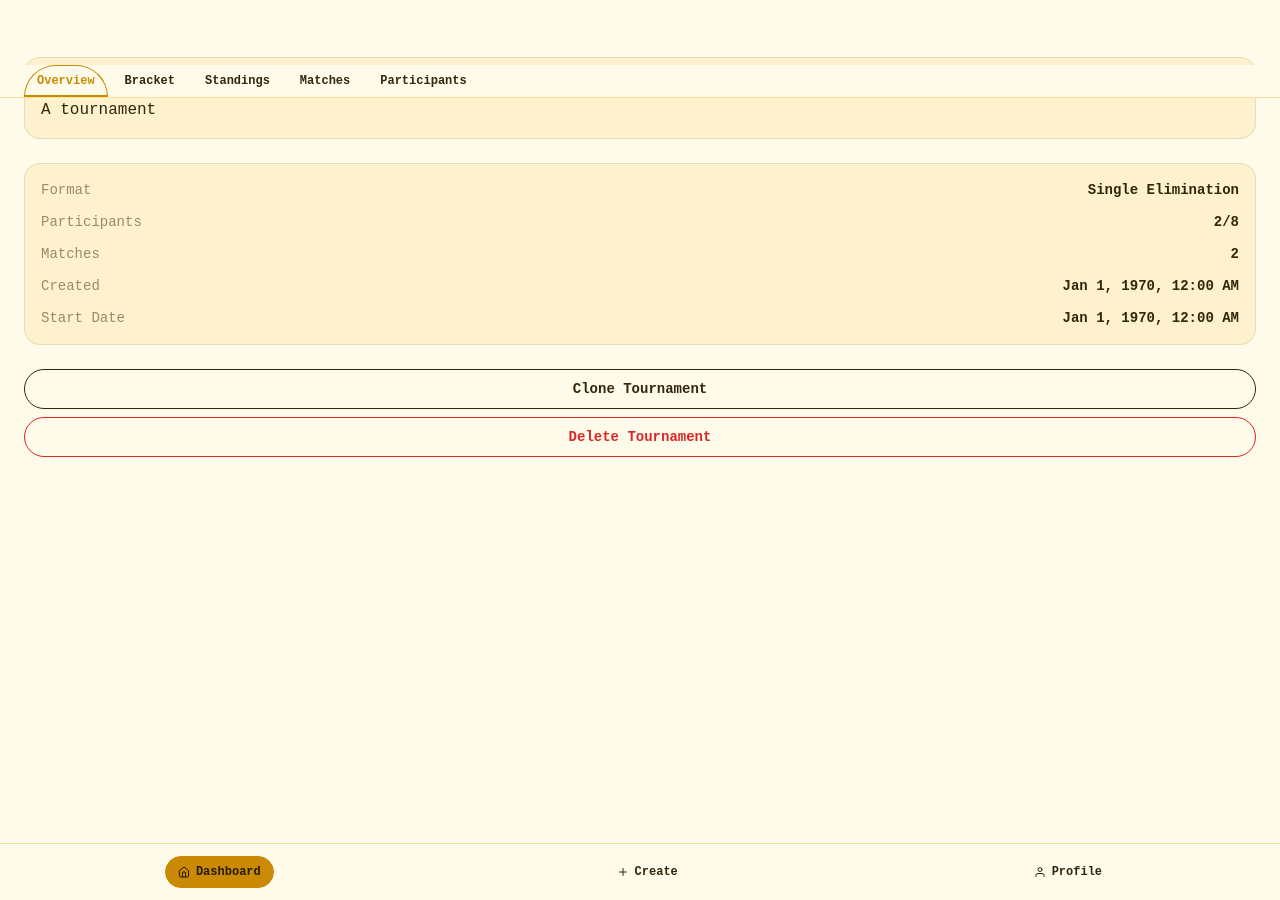
Scenario: TournamentDetailPage › renders every tab and switches between them
This screenshot has width=1280, height=900.
Check: the text "A tournament" is shown, box x1=41 y1=101 x2=156 y2=119
Check: the button "Overview" is shown, box x1=24 y1=65 x2=108 y2=97
Click the button "Bracket".
click(150, 81)  # box x1=112 y1=65 x2=188 y2=97
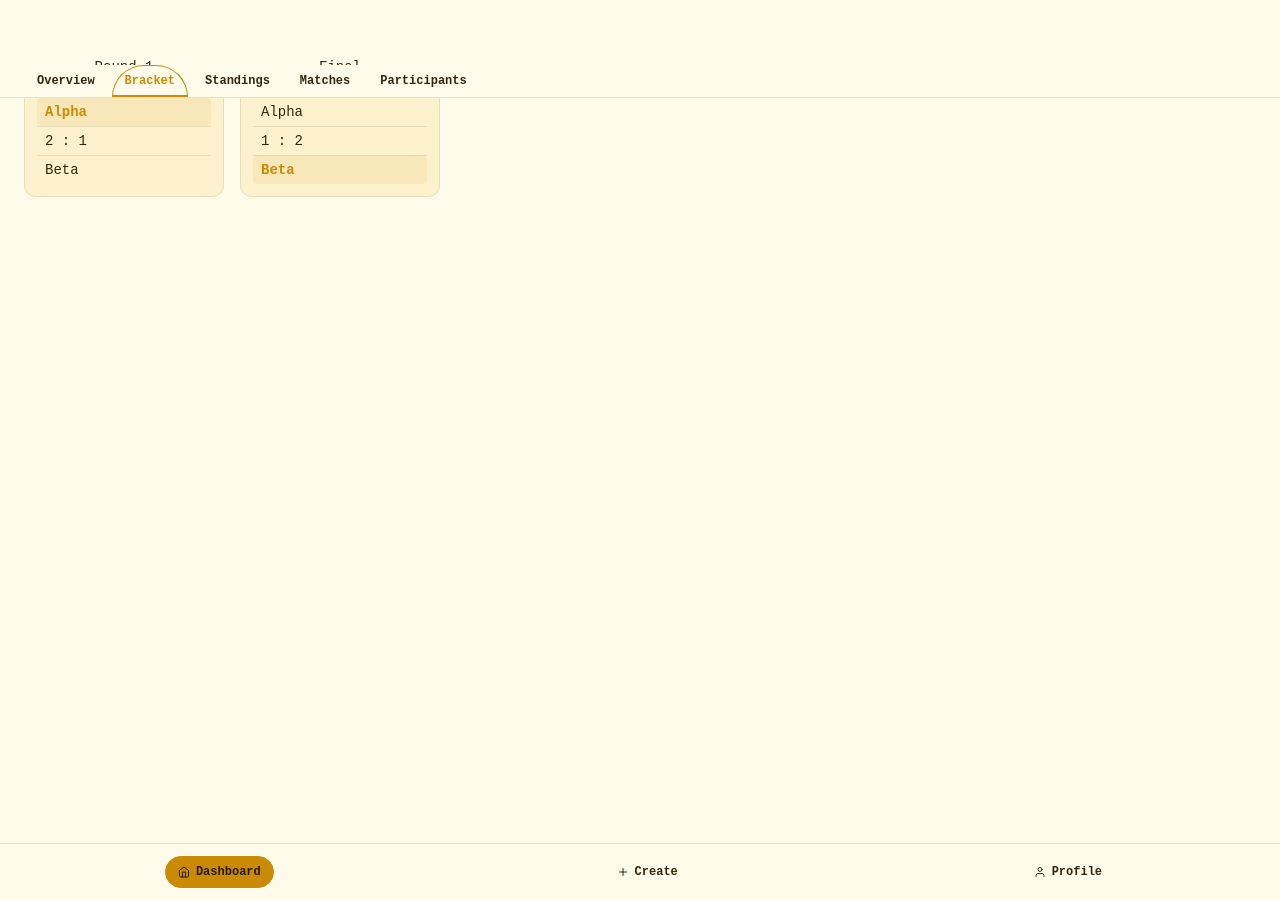
Check: the heading "Final" is shown, box x1=319 y1=59 x2=361 y2=75
Check: the text "Alpha" below "Round 1" is shown, box x1=45 y1=104 x2=87 y2=120
Click the button "Standings".
click(237, 81)  # box x1=192 y1=65 x2=283 y2=97
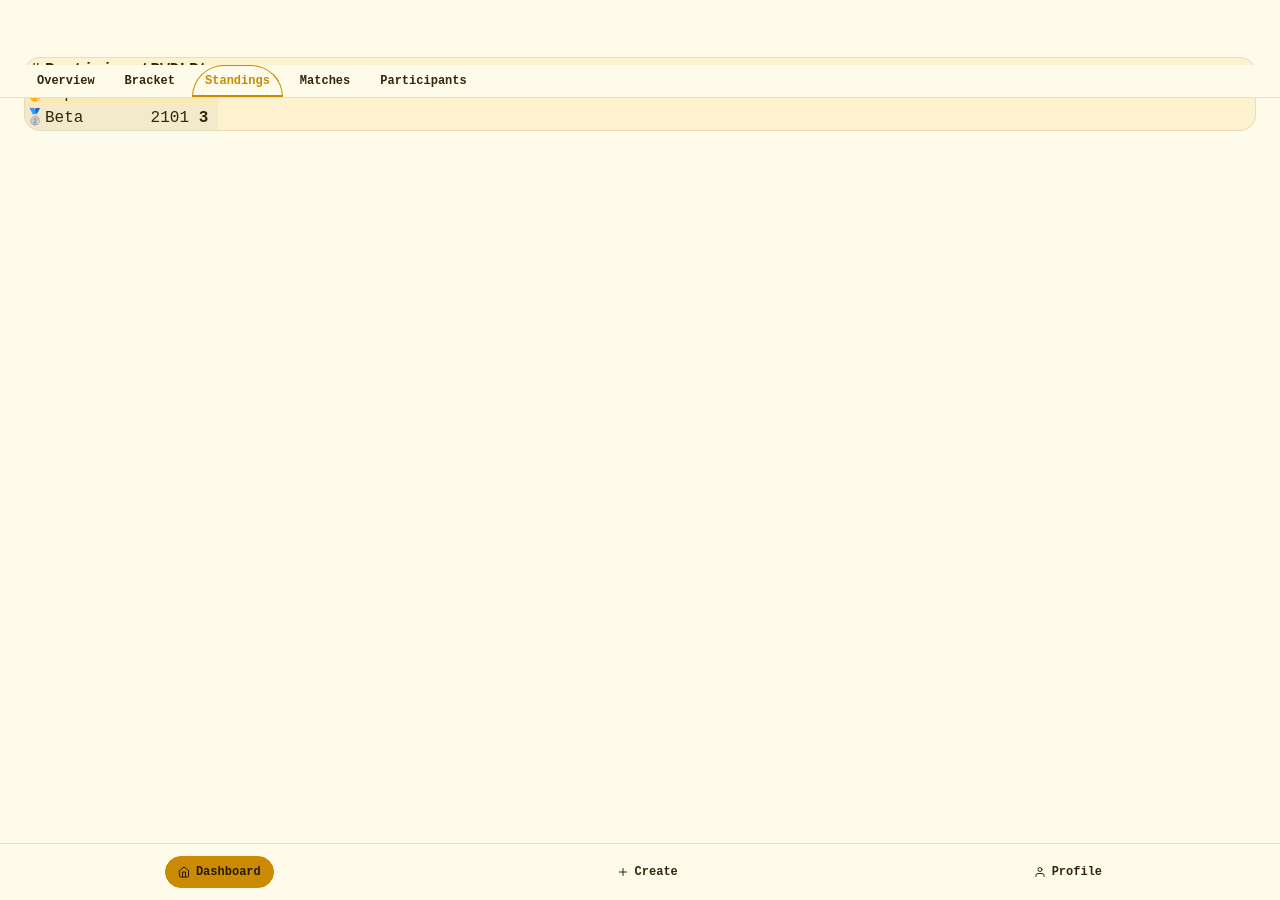
Check: the text "🥇" is shown, box x1=25 y1=82 x2=45 y2=106
Click the button "Matches".
click(325, 81)  # box x1=287 y1=65 x2=363 y2=97
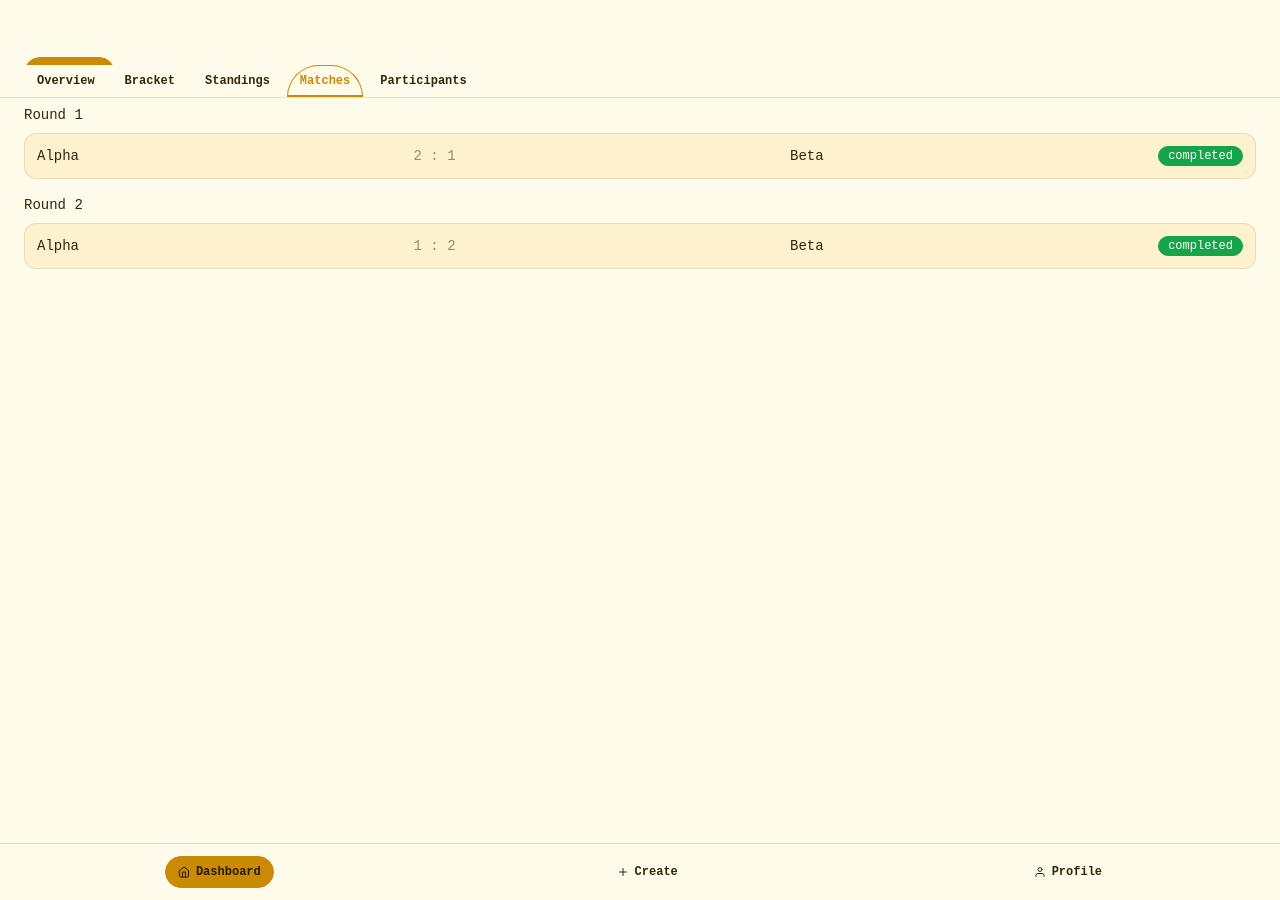
Check: the heading "Round 1" is shown, box x1=24 y1=107 x2=83 y2=123
Check: the 1st text "Alpha" is shown, box x1=37 y1=146 x2=79 y2=166
Click the button "Participants".
click(424, 81)  # box x1=367 y1=65 x2=480 y2=97
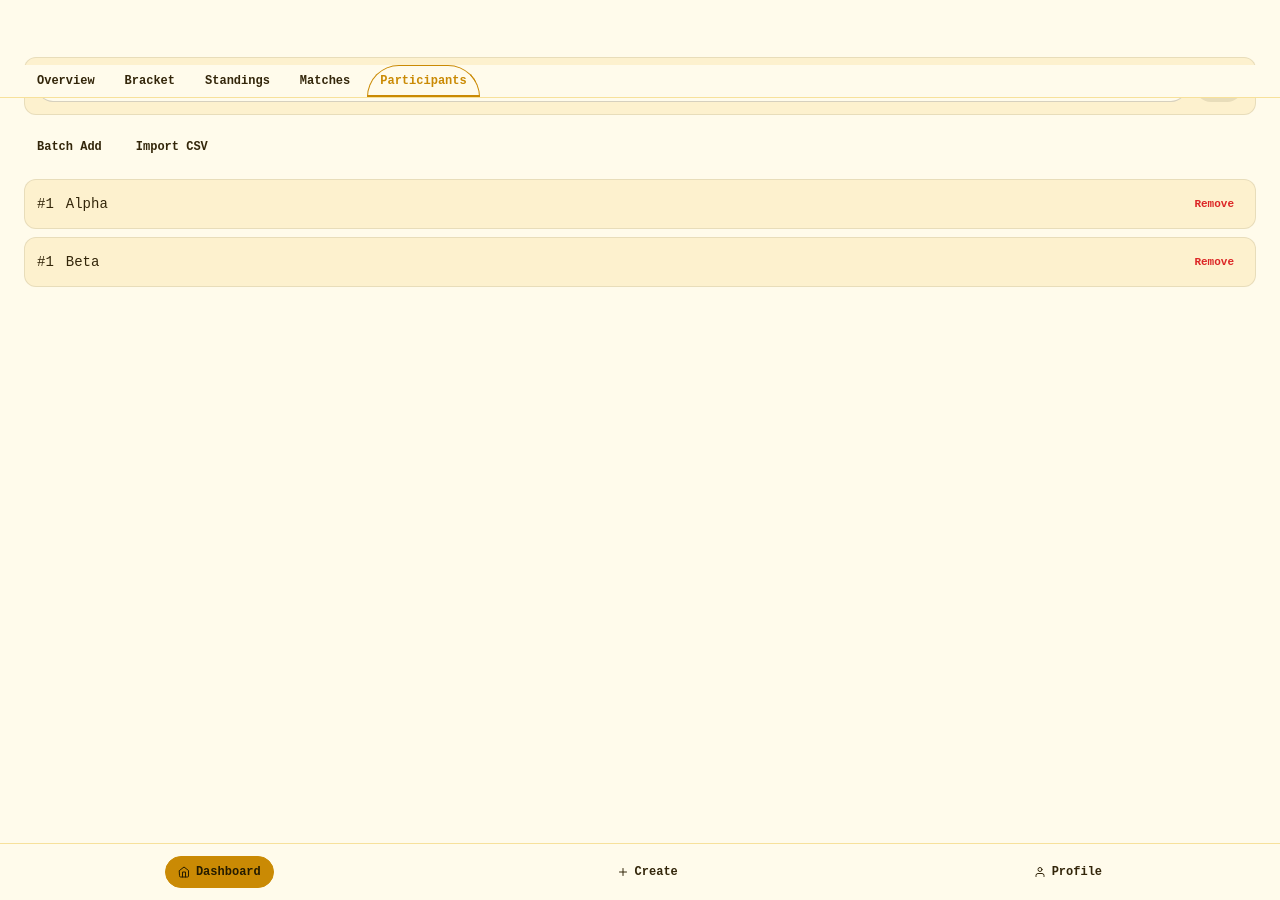
Check: the text "Alpha" is shown, box x1=66 y1=194 x2=108 y2=214
Check: the field with placeholder "Participant name" is shown, box x1=37 y1=70 x2=1187 y2=102
